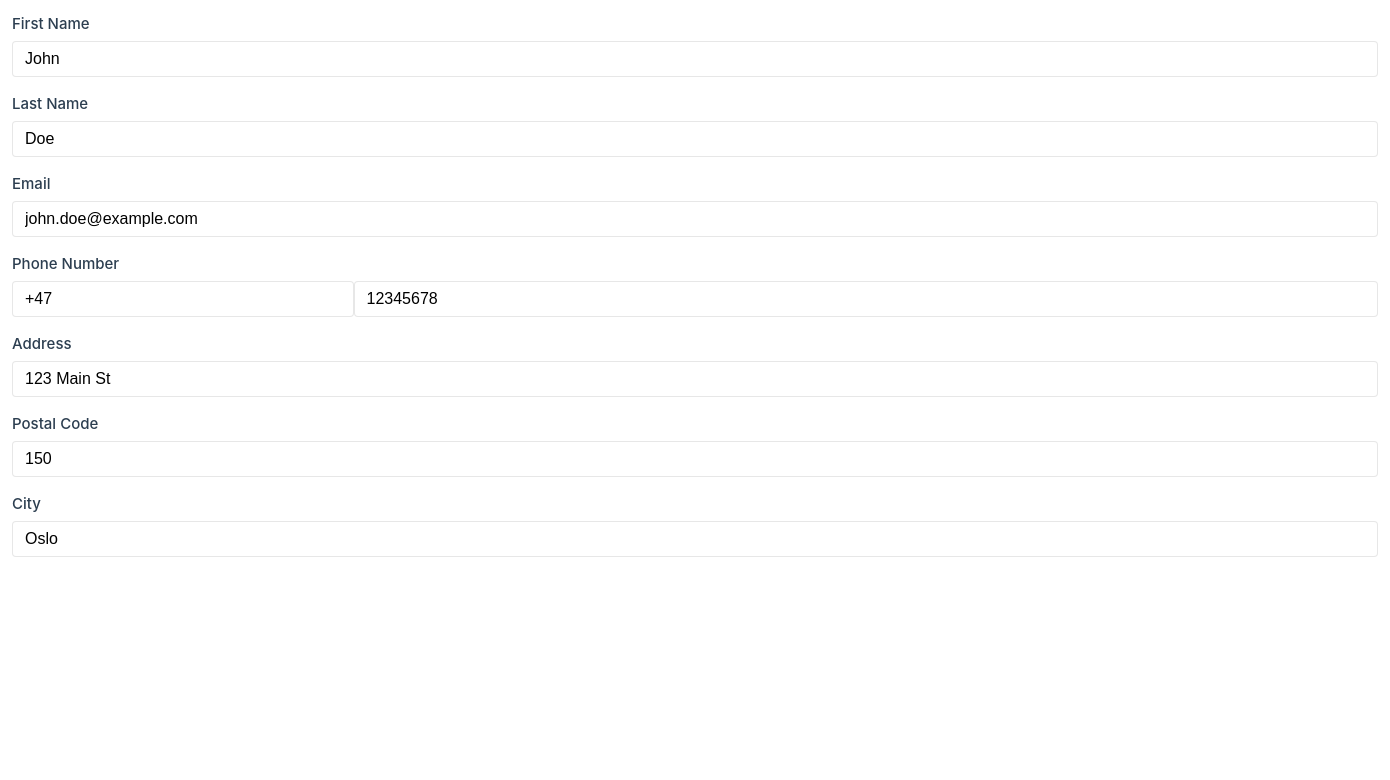
Test: UserInfoComponent › shows validation errors when fields are invalid
Replace the text in the field with id "firstName" with "123": {"x": 695, "y": 59} [12,41,1378,77]
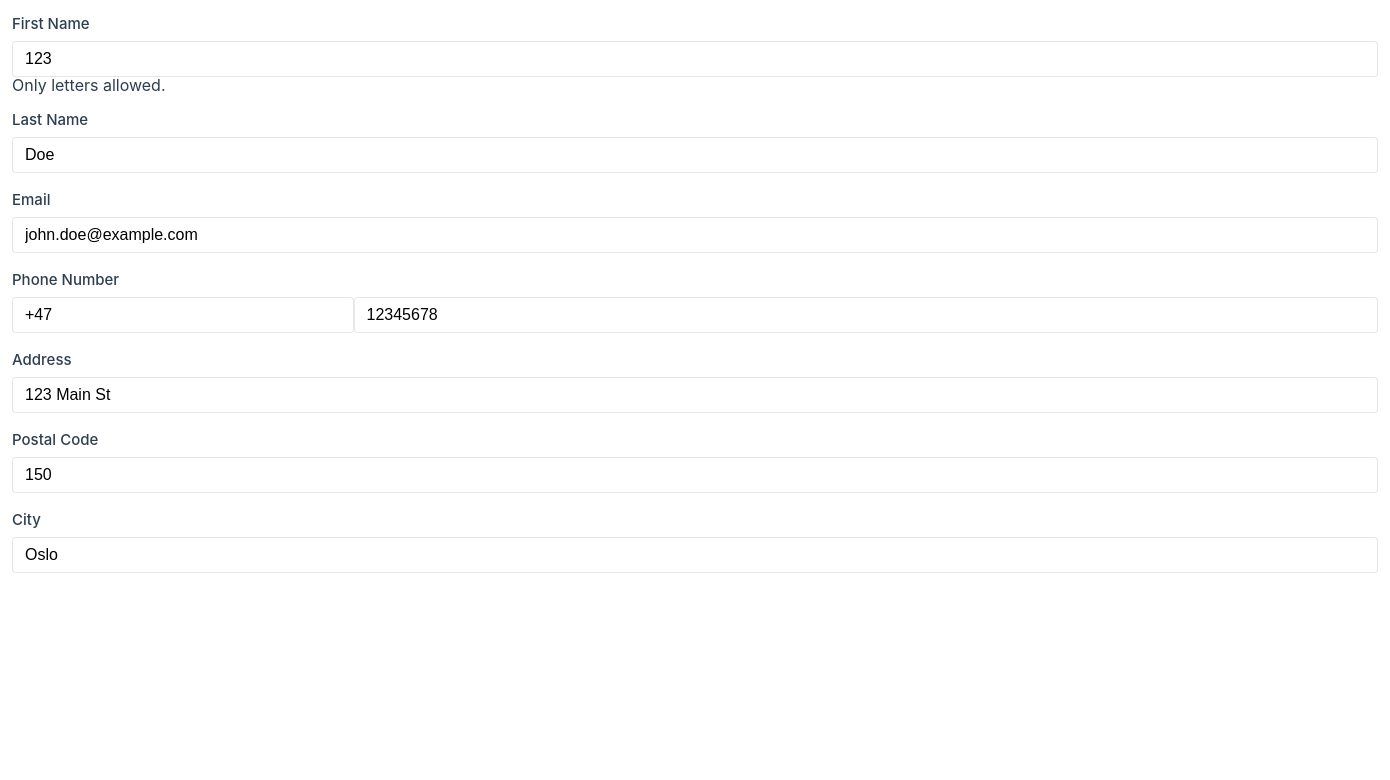
Check: the text "Only letters allowed." is shown, box [12,75,166,95]
